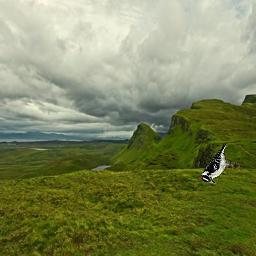Woodpecker: (200, 144, 237, 184)
